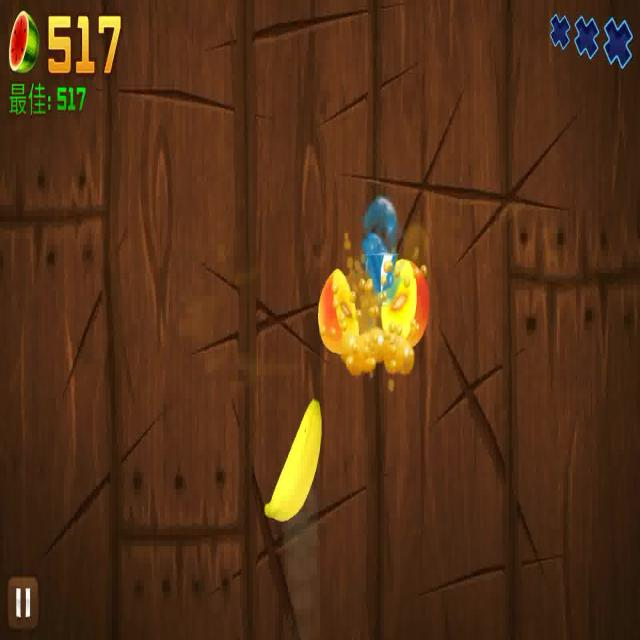fruit: (265, 396, 323, 520), (384, 251, 428, 358), (317, 266, 358, 354)
